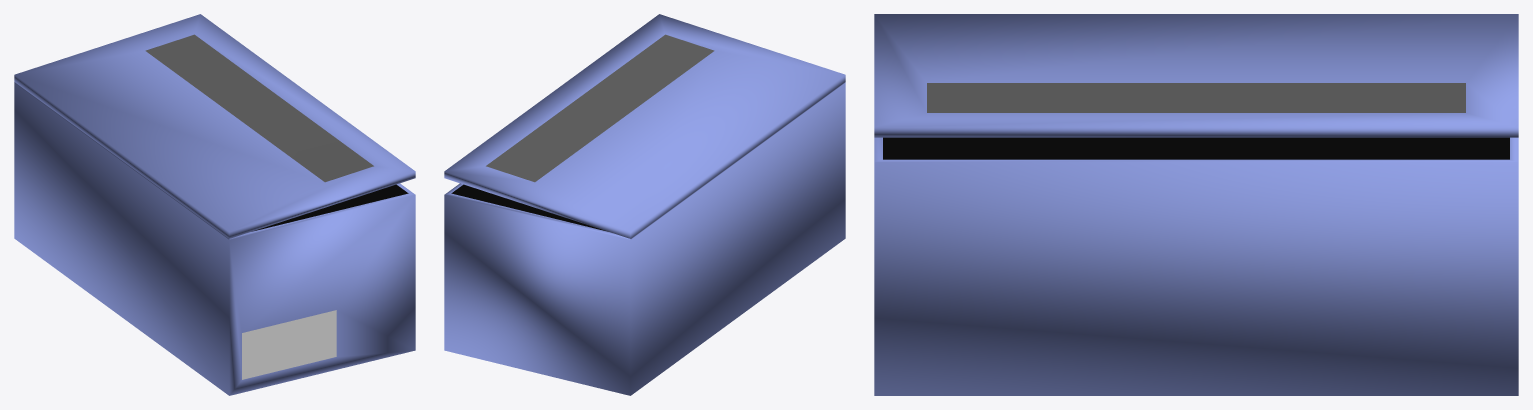
File: Bullets.fbx
The picture shows the model from 3 angles, left to right: view 1: azimuth 30°, elevation 25°; view 2: azimuth 150°, elevation 25°; view 3: azimuth 270°, elevation 25°; orthographic projection. The views are drawn at different scales.
Visible parts, largest first — view 1: Cube; view 2: Cube; view 3: Cube.
Boxes of the visible parts, bbox=[...] form: Cube: bbox=[14, 14, 415, 395]; Cube: bbox=[444, 14, 845, 395]; Cube: bbox=[874, 14, 1518, 395].
Size of the model in its own units: 200 by 184 by 400.
